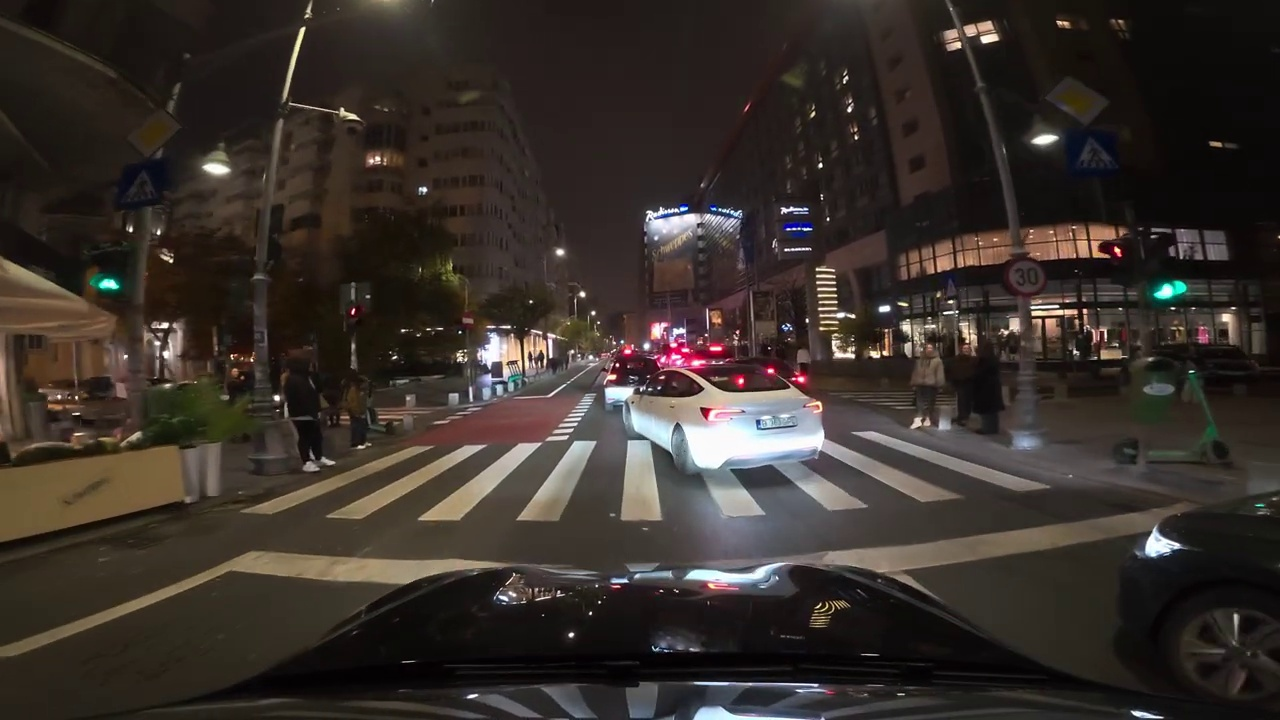acesa: (201, 153, 232, 183), (549, 246, 568, 265)
